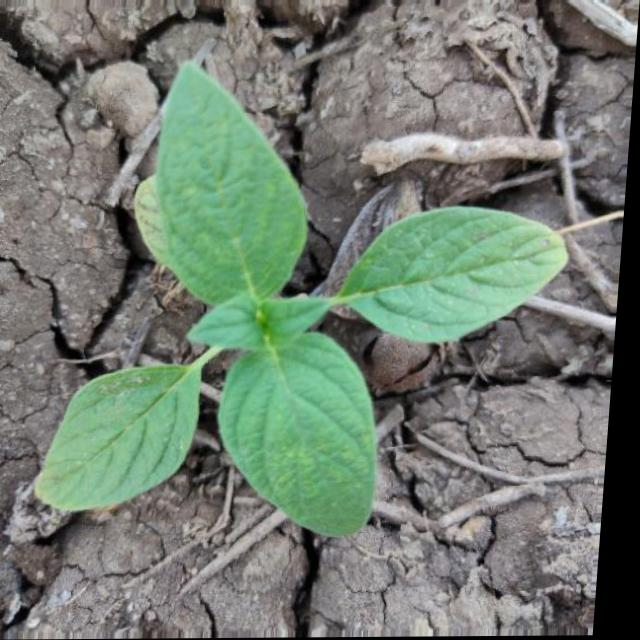crop: (28, 59, 587, 569)
